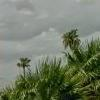Palm tree: (15, 50, 64, 100)
